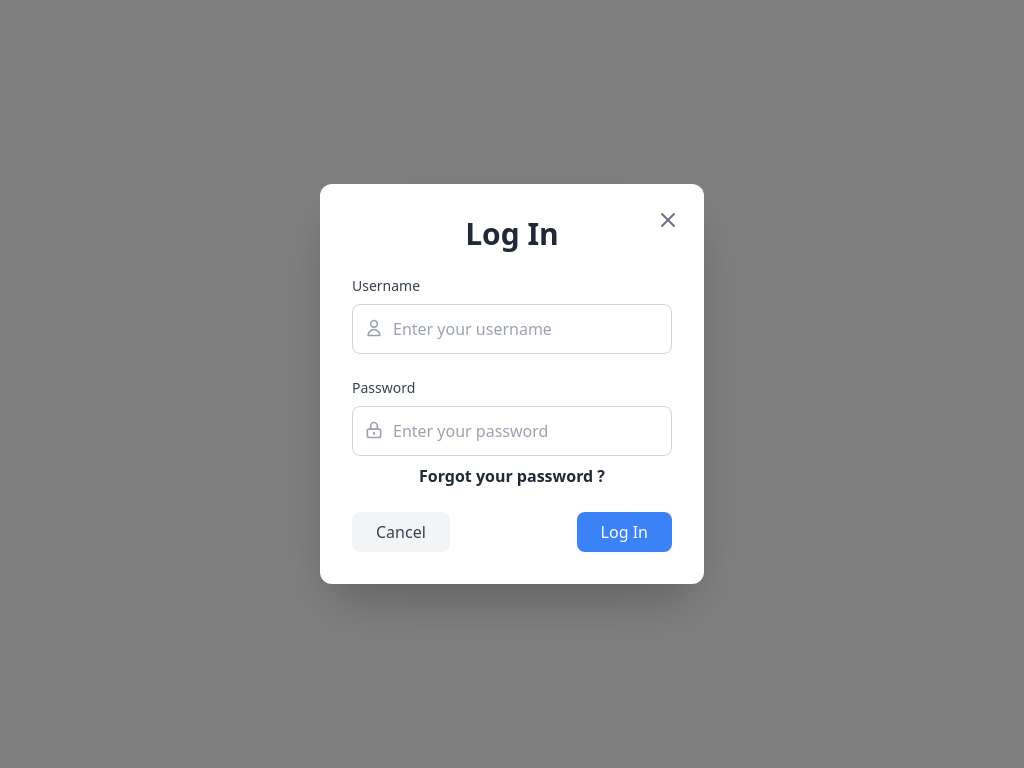
Scenario: LoginCard › disables submit button while loading
Type "testuser" into the field labelled "Username".
click(512, 329); type("testuser")  # box [352,304,672,354]
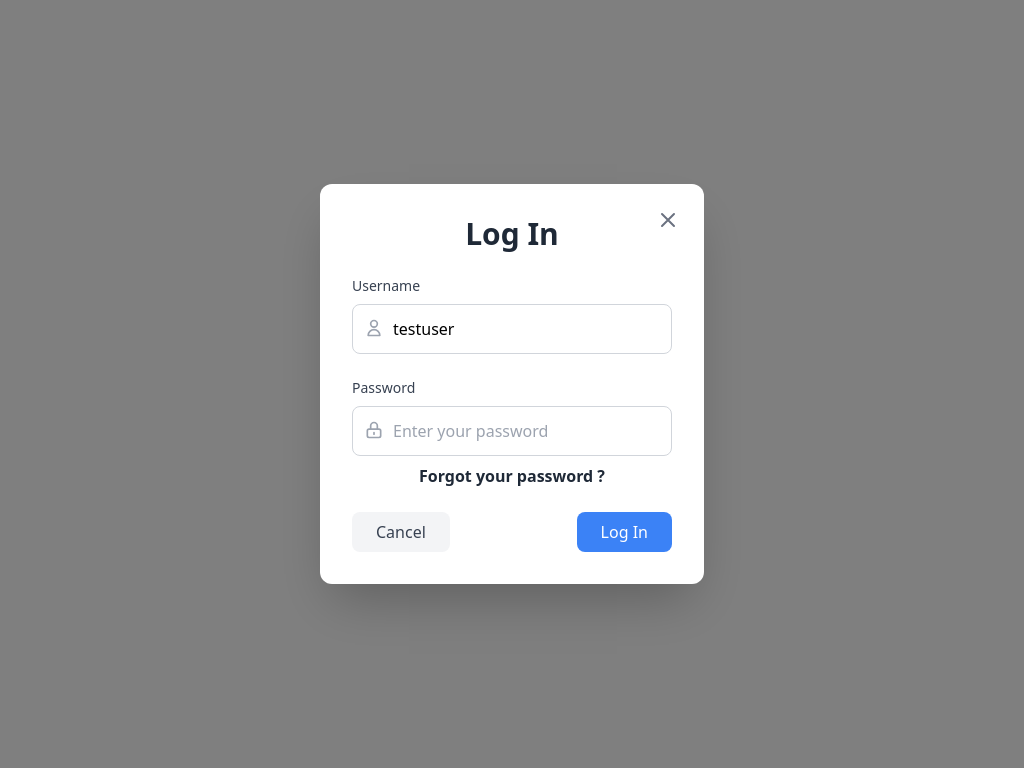
Type "correctpassword" into the password field labelled "Password".
click(512, 431); type("correctpassword")  # box [352,406,672,456]
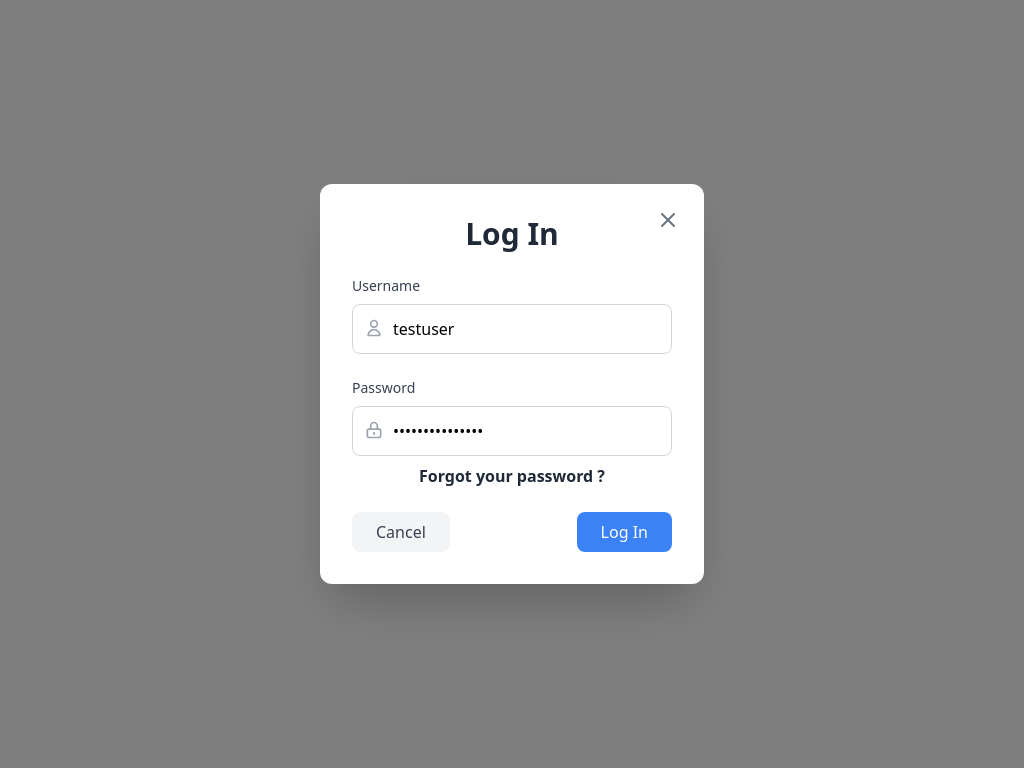
Click the button "Log In".
click(624, 532)  # box [577,512,672,552]
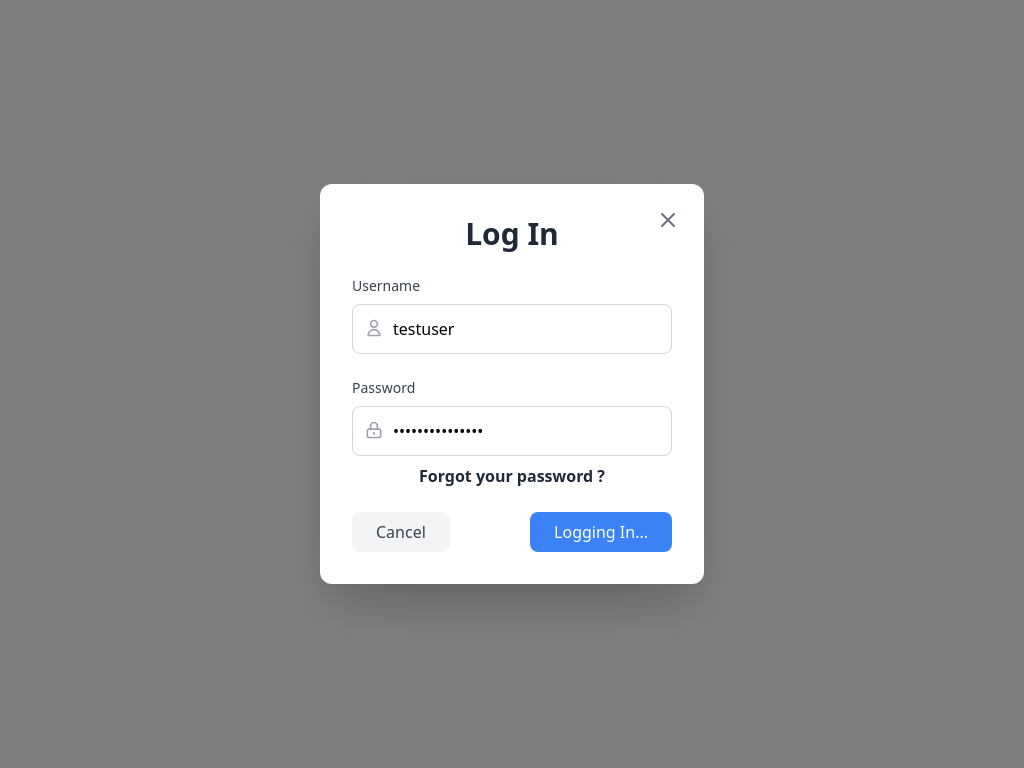
Check: the button "Logging In..." is disabled, box [530,512,672,552]
